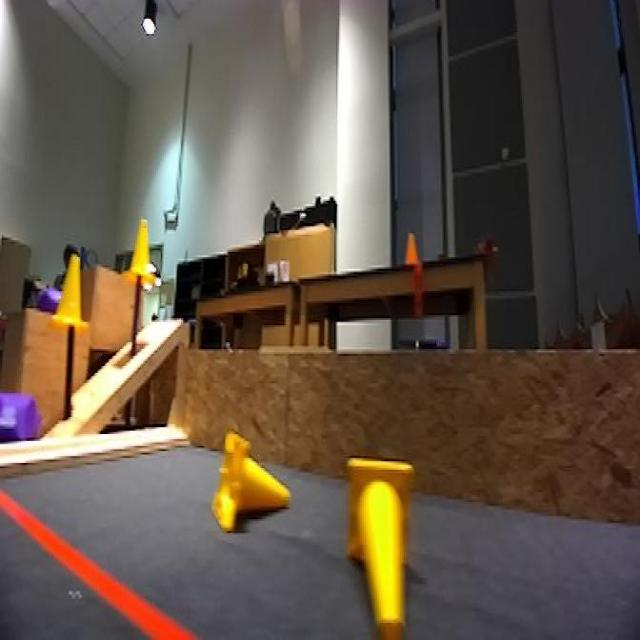frc_cone: (344, 458, 417, 640), (210, 431, 294, 538), (55, 250, 89, 337), (128, 220, 162, 300)
frc_cube: (0, 392, 35, 451), (26, 284, 66, 313)
